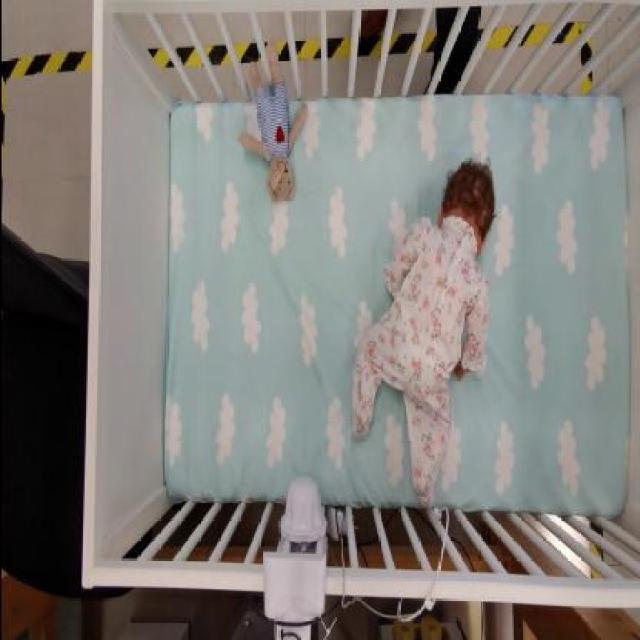baby: (347, 153, 500, 515)
